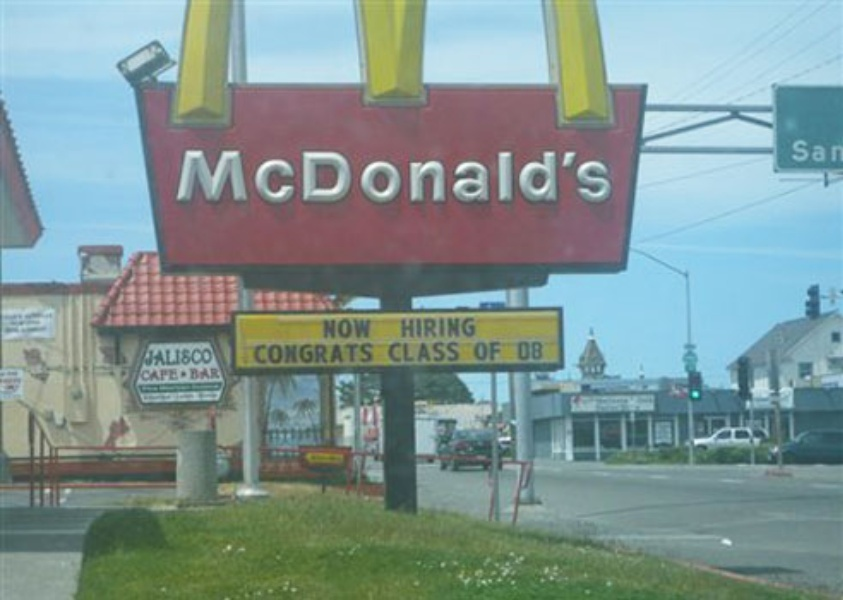text: (193, 148, 208, 205), (209, 148, 224, 205), (225, 148, 240, 205), (241, 148, 256, 205), (257, 148, 272, 205), (273, 148, 288, 205), (289, 148, 304, 205), (305, 148, 320, 205), (321, 148, 336, 205), (337, 148, 352, 205), (353, 148, 368, 205), (369, 148, 384, 205), (385, 148, 400, 205), (401, 148, 416, 205), (417, 148, 432, 205), (433, 148, 448, 205), (449, 148, 464, 205), (465, 148, 480, 205), (481, 148, 496, 205), (497, 148, 512, 205), (513, 148, 528, 205), (529, 148, 544, 205), (545, 148, 560, 205), (561, 148, 576, 205), (577, 148, 592, 205), (593, 148, 608, 205), (182, 148, 192, 205), (801, 139, 816, 163), (257, 342, 272, 364), (273, 342, 288, 364), (289, 342, 304, 364), (305, 342, 320, 364), (321, 342, 336, 364), (337, 342, 352, 364), (353, 342, 368, 364), (401, 316, 416, 338), (417, 316, 432, 338), (433, 316, 448, 338), (449, 316, 464, 338), (337, 318, 352, 340), (353, 318, 368, 340), (481, 340, 496, 362), (17, 313, 32, 335), (33, 313, 48, 335), (529, 340, 544, 361), (2, 313, 16, 335), (401, 342, 416, 362), (417, 342, 432, 362), (433, 342, 448, 362), (2, 369, 16, 390), (323, 318, 336, 340), (145, 347, 160, 366), (161, 347, 176, 366), (177, 347, 192, 366), (193, 347, 208, 366), (386, 342, 400, 362), (465, 316, 477, 338), (789, 139, 800, 163), (833, 143, 843, 167), (449, 342, 460, 362), (817, 139, 826, 163), (518, 340, 528, 361), (145, 367, 160, 381), (161, 367, 176, 381), (193, 366, 208, 379), (472, 340, 480, 362), (145, 391, 160, 402), (161, 391, 176, 402), (177, 391, 192, 402), (193, 391, 208, 402), (369, 342, 376, 364), (17, 369, 24, 390), (209, 366, 220, 379), (209, 391, 220, 402), (252, 342, 256, 364), (497, 340, 501, 362), (49, 313, 52, 335), (609, 148, 610, 205), (830, 143, 832, 167), (398, 316, 400, 338), (369, 318, 371, 340), (189, 366, 192, 379), (209, 347, 211, 366), (177, 367, 179, 381), (143, 367, 144, 381), (143, 391, 144, 402)
